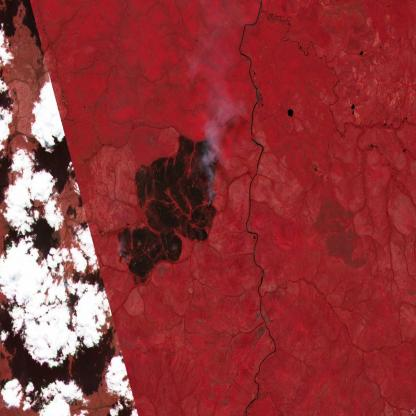fire: (116, 150, 220, 265)
